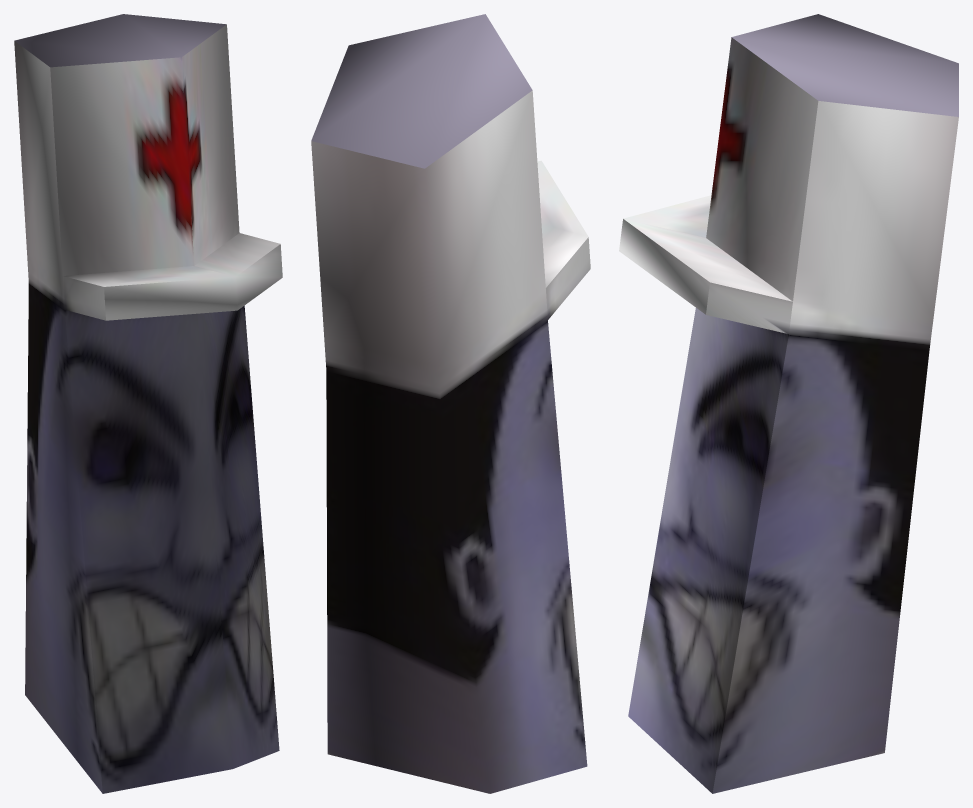
3 renders of one model, left to right at view 1: azimuth 30°, elevation 25°; view 2: azimuth 150°, elevation 25°; view 3: azimuth 270°, elevation 25°, orthographic. The views are drawn at different scales.
Visible parts, largest first — view 1: ambulancechaser; view 2: ambulancechaser; view 3: ambulancechaser.
Boxes of the visible parts, x1=… form: ambulancechaser: x1=14, y1=14, x2=282, y2=793; ambulancechaser: x1=311, y1=14, x2=590, y2=793; ambulancechaser: x1=619, y1=14, x2=958, y2=793.
Size of the model in its own units: 0.6676 by 2.56 by 1.1.
1 material, 1 textured.
